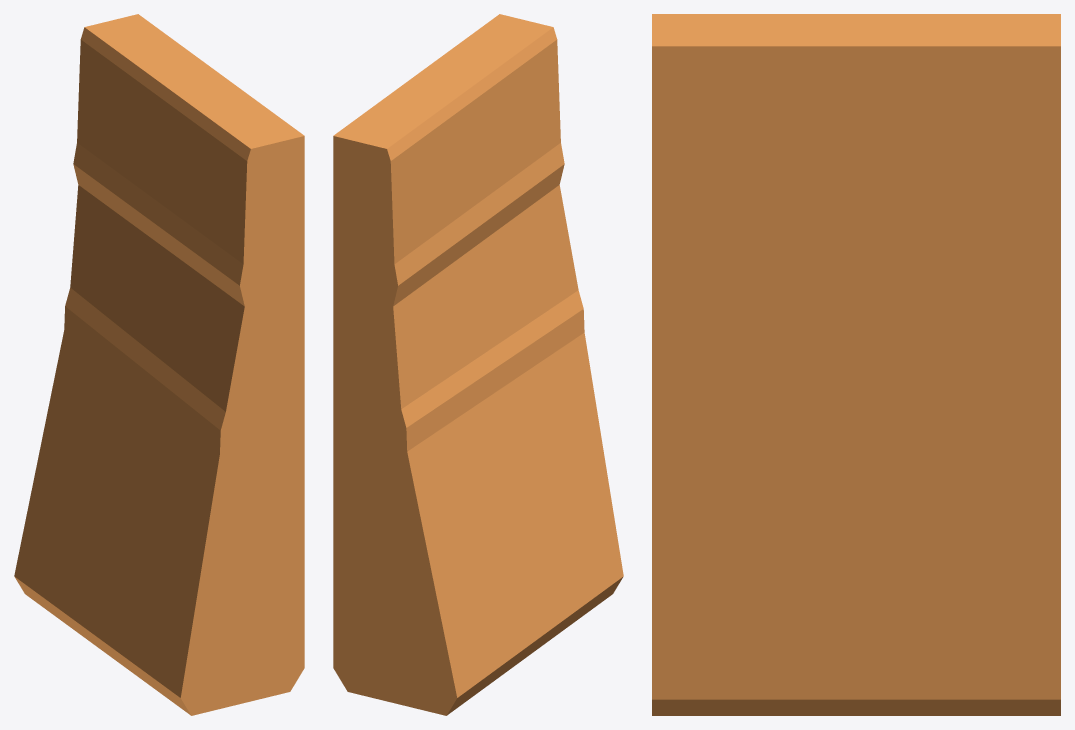
Rendered from HandR.fbx.
The picture shows the model from 3 angles, left to right: view 1: azimuth 30°, elevation 25°; view 2: azimuth 150°, elevation 25°; view 3: azimuth 270°, elevation 25°; orthographic projection. The views are drawn at different scales.
Visible parts, largest first — view 1: HandR; view 2: HandR; view 3: HandR.
Boxes of the visible parts, x1,y1,x2,y2 form: HandR: (14, 14, 304, 715); HandR: (333, 14, 623, 715); HandR: (652, 14, 1060, 715).
Size of the model in its own units: 290 by 1235 by 675.
